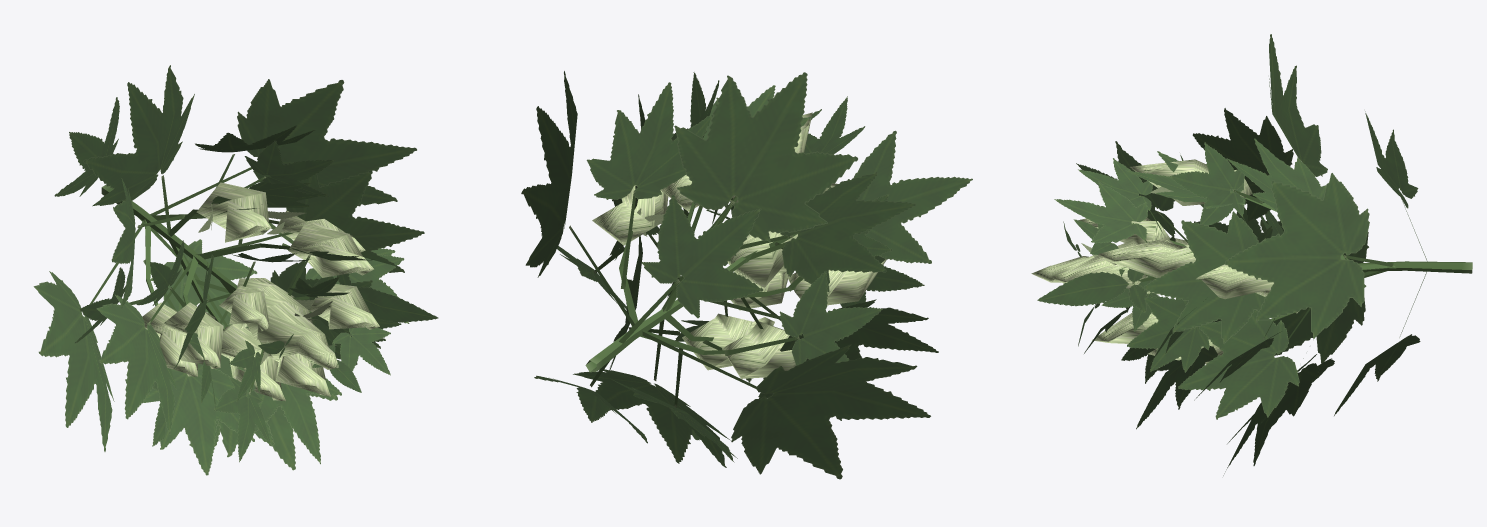
File: p_frosty_kush_flowering_c0_cards.obj
The picture shows the model from 3 angles, left to right: view 1: azimuth 30°, elevation 25°; view 2: azimuth 150°, elevation 25°; view 3: azimuth 270°, elevation 25°; orthographic projection. The views are drawn at different scales.
Bounding box in the file's own units: 1.46 × 1.5 × 1.33.
1 material, 1 textured.
